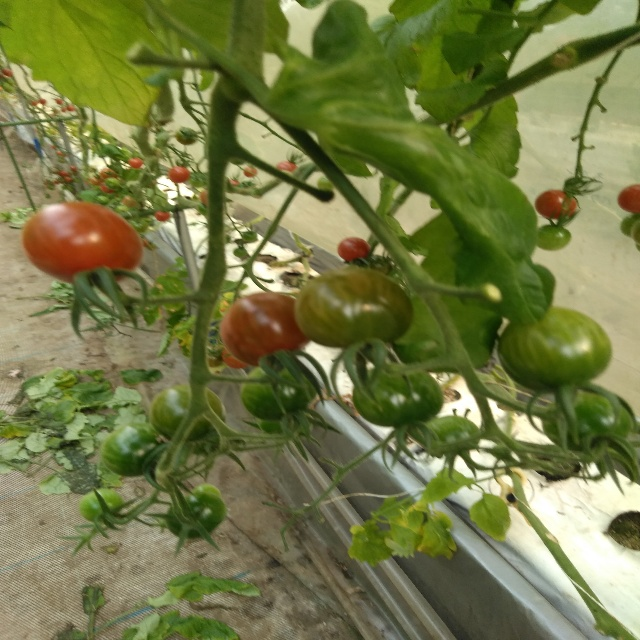l_fully_ripened: (21, 201, 143, 287), (534, 189, 577, 221), (337, 236, 370, 263), (617, 184, 640, 214)
l_green: (294, 266, 415, 350), (497, 305, 613, 392), (351, 362, 445, 427), (541, 390, 634, 452), (240, 361, 318, 423), (151, 385, 226, 443), (99, 423, 165, 478), (165, 492, 225, 540), (417, 415, 480, 454), (78, 488, 123, 523), (537, 224, 570, 252)
l_half_ripened: (220, 293, 310, 368)
